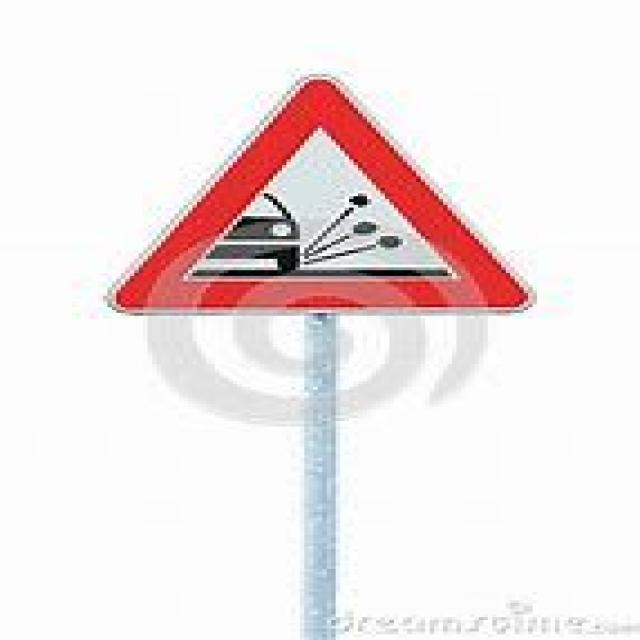LOOSE_GRAVEL: (94, 68, 533, 313)
